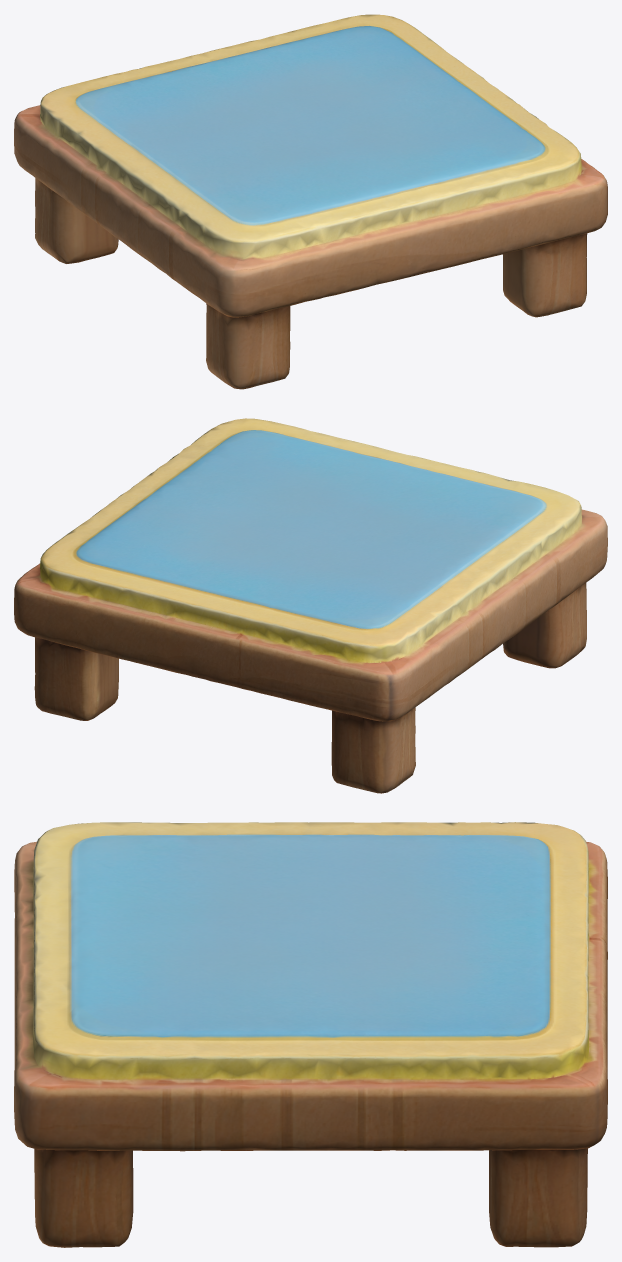
File: Agility_Table.fbx
3 views of the same model, one above another, from view 1: azimuth 30°, elevation 25°; view 2: azimuth 150°, elevation 25°; view 3: azimuth 270°, elevation 25° (orthographic). The views are drawn at different scales.
Parts seen in each view (by area): view 1: texture_mapping; view 2: texture_mapping; view 3: texture_mapping.
Boxes of the visible parts, box(x1,y1,x2,y2) form: texture_mapping: box(14, 14, 607, 389); texture_mapping: box(14, 418, 607, 793); texture_mapping: box(14, 822, 607, 1247).
Size of the model in its own units: 1 by 0.9976 by 0.376.
1 material, 1 textured.
